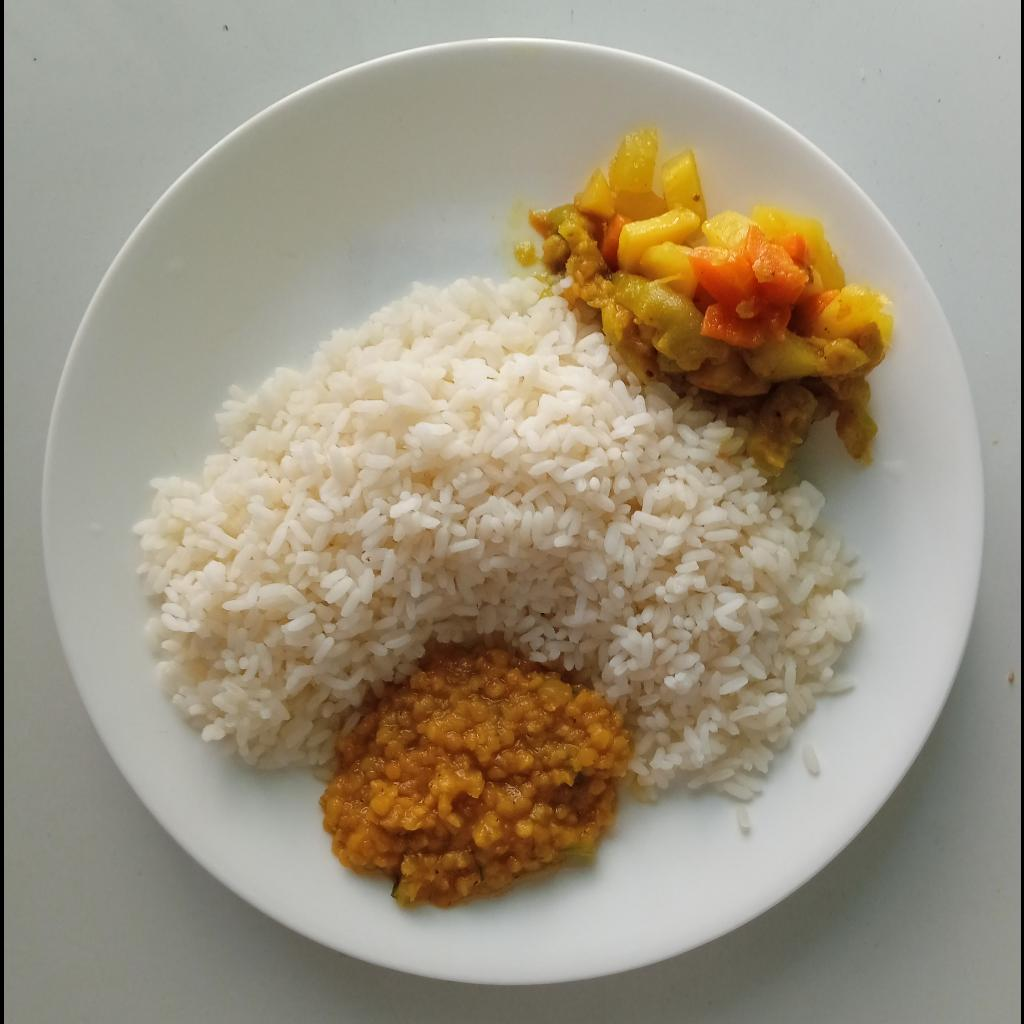daal: (321, 645, 633, 912)
rice: (133, 278, 865, 812)
vegetable: (527, 126, 895, 471)
